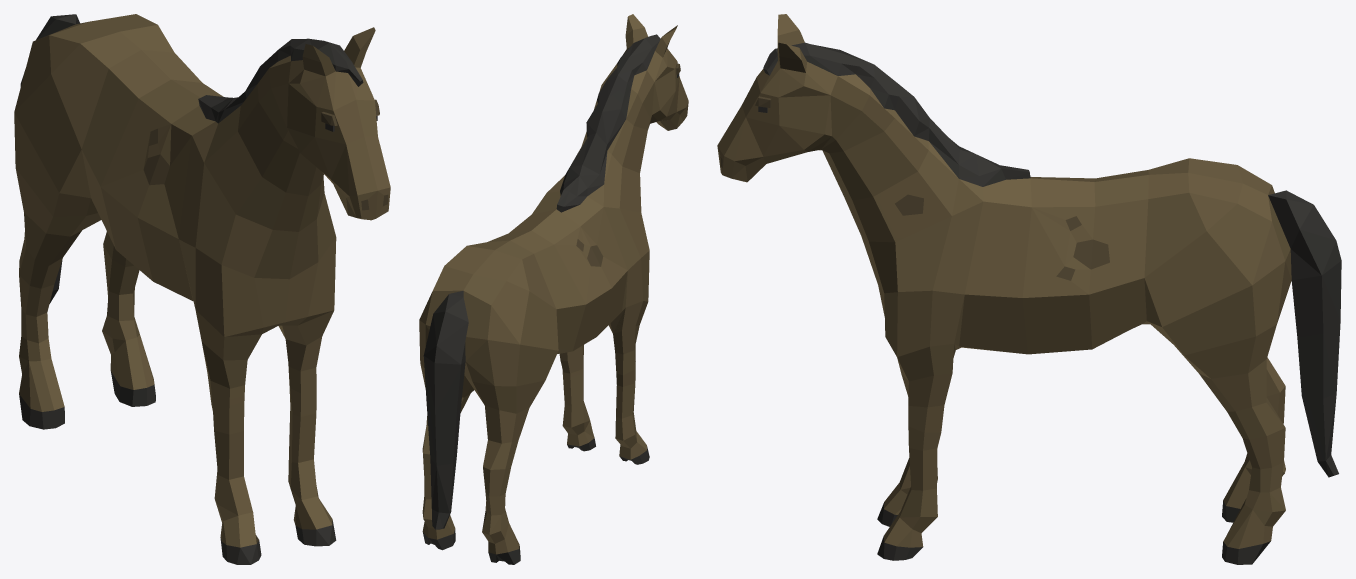
File: Horse.fbx
The picture shows the model from 3 angles, left to right: view 1: azimuth 30°, elevation 25°; view 2: azimuth 150°, elevation 25°; view 3: azimuth 270°, elevation 25°; orthographic projection. The views are drawn at different scales.
Visible parts, largest first — view 1: Horse; view 2: Horse; view 3: Horse.
Part boxes in pixels (box(x1,y1,x2,y2)): Horse: box(14, 14, 390, 564); Horse: box(419, 14, 688, 564); Horse: box(717, 14, 1341, 564).
Bounding box in the file's own units: 59.23 × 211 × 235.
